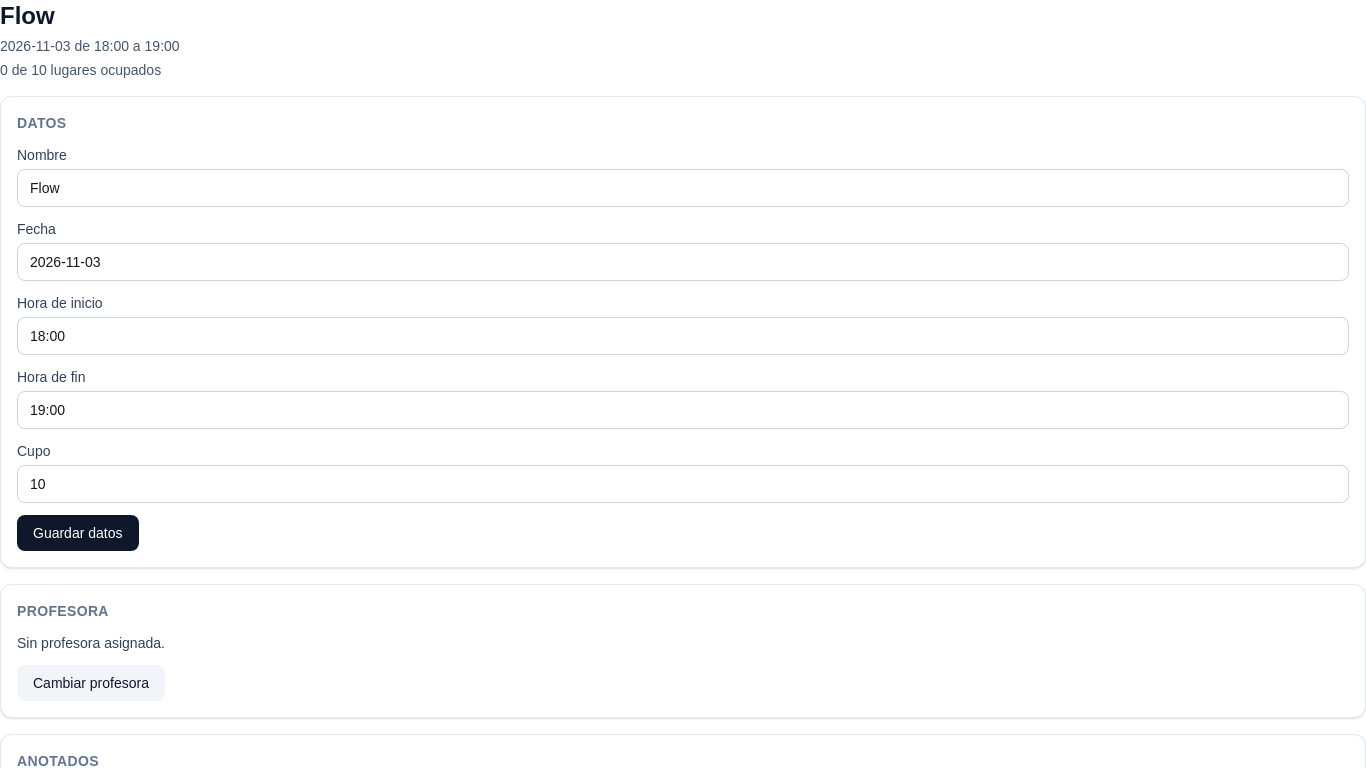
Test case: el bloque de datos › sin cambios no hay peticion
Click the button "Guardar datos" at (78, 533), box x1=17 y1=515 x2=138 y2=551
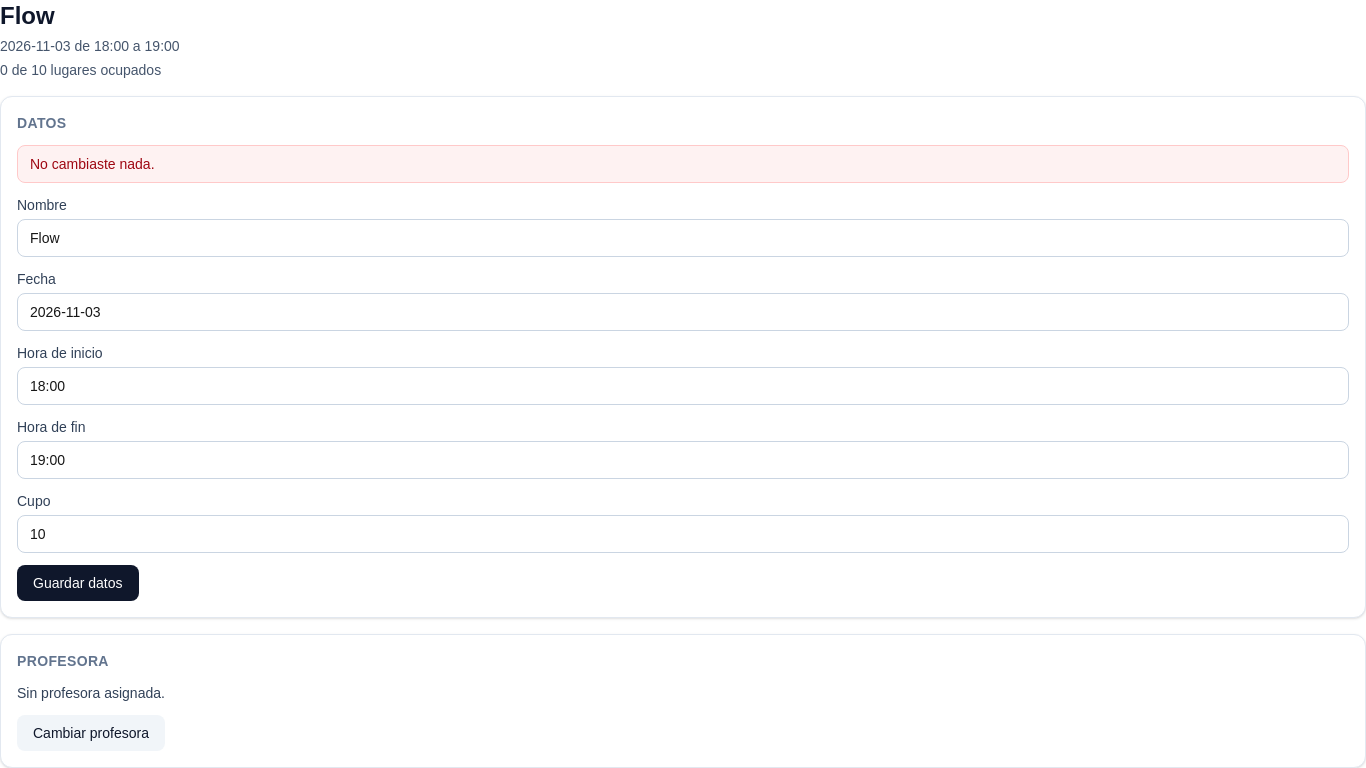
Now the text "No cambiaste nada." is shown, box x1=17 y1=145 x2=1349 y2=183
